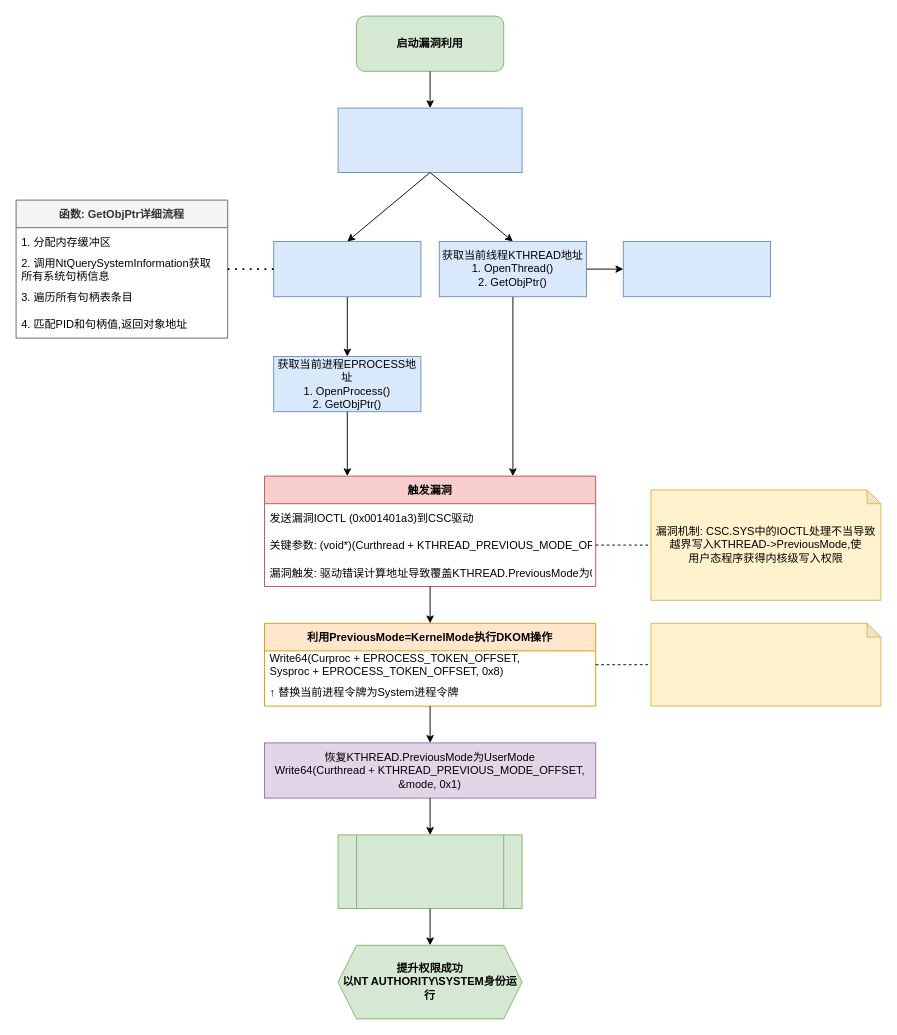
This 897x1035 diagram has some shape labels left out. Each missing label, with the centre of its shape:
DKOM (Direct Kernel Object Manipulation) 直接内核对象操作技术 结果: 当前进程获取SYSTEM权限: point 765,664
KTHREAD中含有PreviousMode变量: point 696,269
创建CSC驱动文件句柄 NtCreateFile("\Device\Mup\;Csc\.\."): point 429,139
启动具有SYSTEM权限的CMD system("cmd.exe"): point 429,871
获取System进程EPROCESS地址 GetObjPtr(&Sysproc, 4, 4): point 347,269
